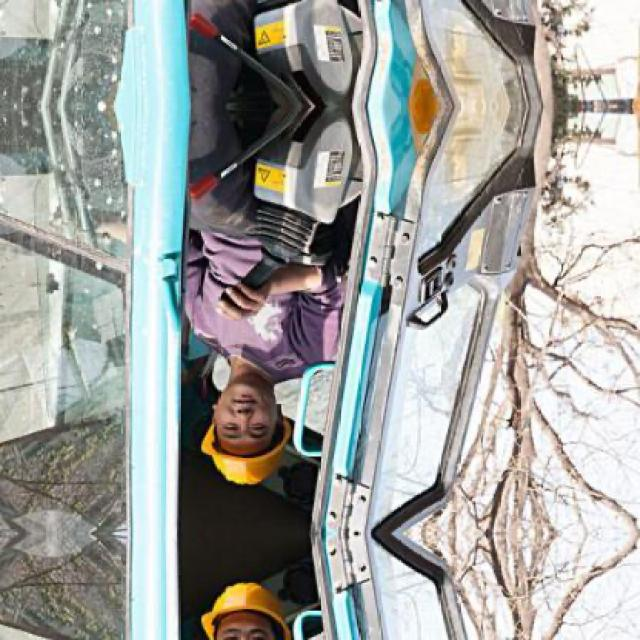con casco: (180, 329, 320, 514)
